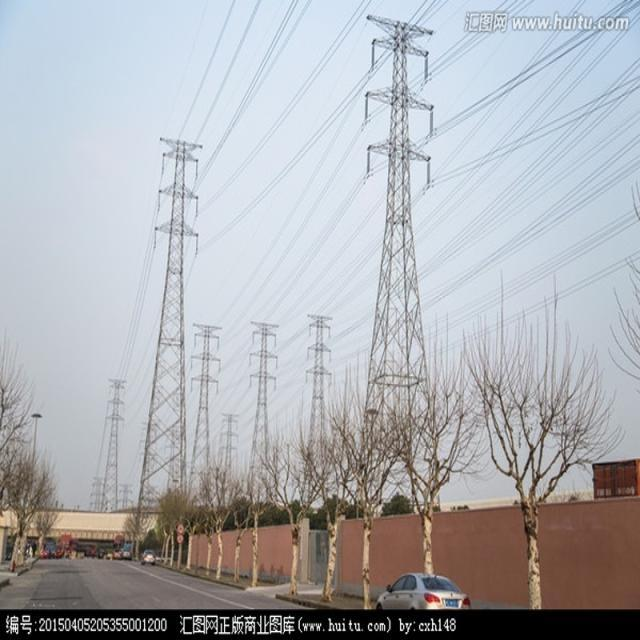non-critical vegetation: (356, 10, 464, 493), (143, 128, 199, 550), (104, 362, 129, 516)
